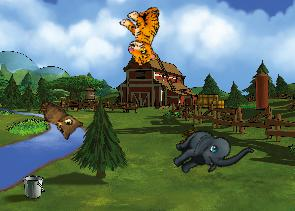elephant: (165, 109, 254, 196)
owl: (31, 99, 85, 143)
tiger: (113, 1, 176, 68)
